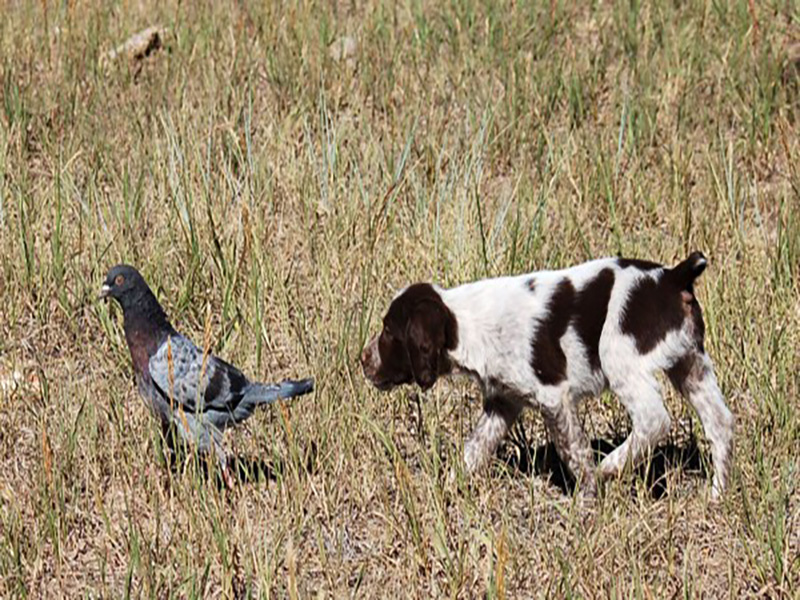cane da caccia: (362, 263, 744, 516)
